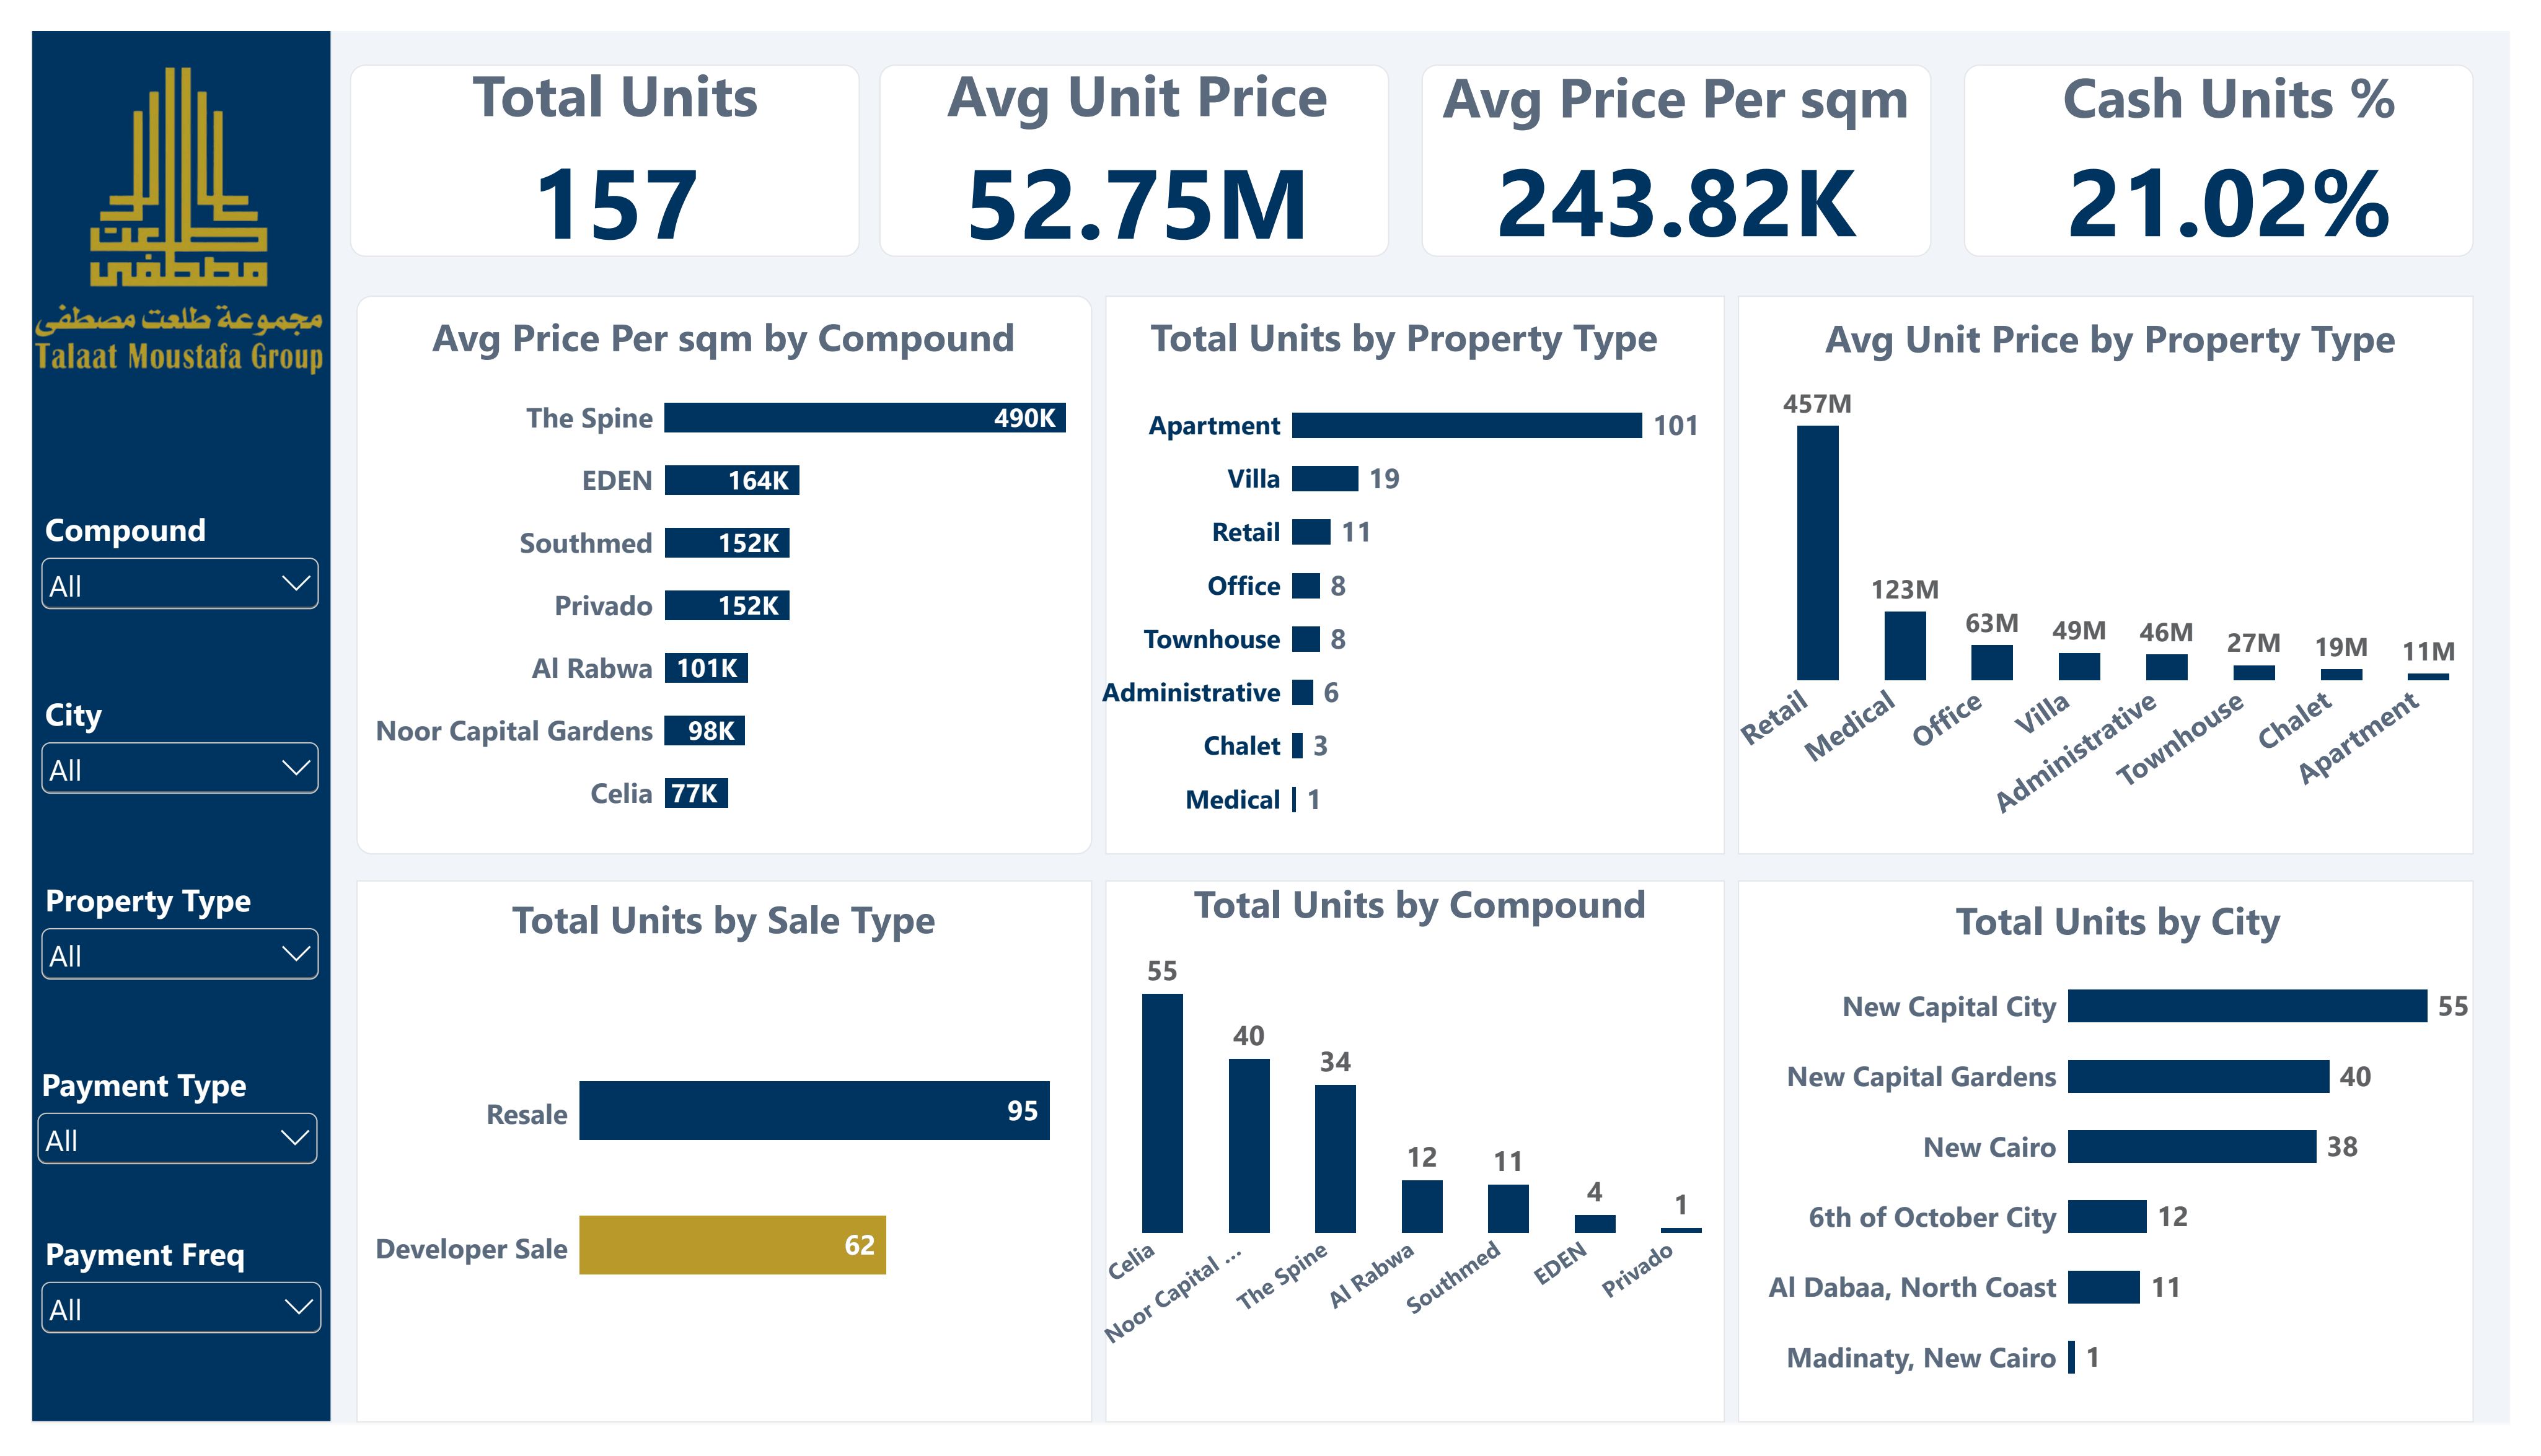

The dashboard page shown, as its layout file describes it:
{"tool":"powerbi","page":{"name":"Page 1","canvas":[1920,1080],"ordinal":0},"visuals":[{"type":"image","box":[3.3,6.6,222.7,280.4],"z":0},{"type":"cardVisual","fields":{"Data":["Measure.Total Units"]},"box":[290.5,14.5,323.2,170.7],"z":1000},{"type":"cardVisual","fields":{"Data":["Measure.Avg Unit Price"]},"box":[684.5,14.5,345,170.7],"z":2000},{"type":"cardVisual","fields":{"Data":["Measure.Avg Price Per sqm"]},"box":[1060.4,14.5,428.5,170.7],"z":3000},{"type":"clusteredBarChart","title":"Avg Price Per sqm by Compound","fields":{"Category":["Talaat_Mostafa_Real_State.Compound"],"Y":["Measure.Avg Price Per sqm"]},"box":[248.8,201.5,575.6,437.6],"z":5000},{"type":"clusteredBarChart","title":"Total Units by Property Type","fields":{"Category":["Talaat_Mostafa_Real_State.Property Type"],"Y":["Measure.Total Units"]},"box":[812.2,201.5,503,437.6],"z":6000},{"type":"clusteredColumnChart","title":"Avg Unit Price by Property Type","fields":{"Category":["Talaat_Mostafa_Real_State.Property Type"],"Y":["Measure.Avg Unit Price"]},"box":[1303,202.9,615.2,438.7],"z":7000},{"type":"slicer","fields":{"Values":["Talaat_Mostafa_Real_State.Compound"]},"box":[3,368.8,225.2,105.3],"z":8000},{"type":"slicer","fields":{"Values":["Talaat_Mostafa_Real_State.City"]},"box":[3,512.2,225.2,105.3],"z":9000},{"type":"slicer","fields":{"Values":["Talaat_Mostafa_Real_State.Property Type"]},"box":[3,655.6,225.2,105.3],"z":10000},{"type":"clusteredBarChart","title":"Total Units by Sale Type","fields":{"Category":["Talaat_Mostafa_Real_State.Sale_Type"],"Y":["Measure.Total Units"]},"box":[248.8,653.3,575.6,426.7],"z":12000},{"type":"clusteredBarChart","fields":{"Category":["Talaat_Mostafa_Real_State.City"],"Y":["Measure.Total Units"]},"box":[1327.7,654.5,577.3,425.5],"z":13000},{"type":"clusteredColumnChart","fields":{"Category":["Talaat_Mostafa_Real_State.Compound"],"Y":["Measure.Total Units"]},"box":[813,641.3,526.1,438.7],"z":14000},{"type":"cardVisual","fields":{"Data":["Measure.Cash Units %"]},"box":[1488.9,14.5,428.5,170.7],"z":14001},{"type":"slicer","fields":{"Values":["Talaat_Mostafa_Real_State.Payment_Type"]},"box":[0,799.1,226.7,92.4],"z":14002},{"type":"slicer","fields":{"Values":["Talaat_Mostafa_Real_State.Payment_Frequency"]},"box":[3.5,929.7,226.7,92.4],"z":14003}]}

Visuals, with their boxes on the page's 1920x1080 design canvas (x1, y1, x2, y2). These are canvas units, not pixel positions in the 2541x1456 screenshot, which may show the page scaled, cropped or inside an application window:
image: Rect(3, 7, 226, 287)
cardVisual - Measure.Total Units: Rect(290, 14, 614, 185)
cardVisual - Measure.Avg Unit Price: Rect(684, 14, 1030, 185)
cardVisual - Measure.Avg Price Per sqm: Rect(1060, 14, 1489, 185)
"Avg Price Per sqm by Compound" clusteredBarChart: Rect(249, 202, 824, 639)
"Total Units by Property Type" clusteredBarChart: Rect(812, 202, 1315, 639)
"Avg Unit Price by Property Type" clusteredColumnChart: Rect(1303, 203, 1918, 642)
slicer - Talaat_Mostafa_Real_State.Compound: Rect(3, 369, 228, 474)
slicer - Talaat_Mostafa_Real_State.City: Rect(3, 512, 228, 618)
slicer - Talaat_Mostafa_Real_State.Property Type: Rect(3, 656, 228, 761)
"Total Units by Sale Type" clusteredBarChart: Rect(249, 653, 824, 1080)
clusteredBarChart - Talaat_Mostafa_Real_State.City x Measure.Total Units: Rect(1328, 654, 1905, 1080)
clusteredColumnChart - Talaat_Mostafa_Real_State.Compound x Measure.Total Units: Rect(813, 641, 1339, 1080)
cardVisual - Measure.Cash Units %: Rect(1489, 14, 1917, 185)
slicer - Talaat_Mostafa_Real_State.Payment_Type: Rect(0, 799, 227, 892)
slicer - Talaat_Mostafa_Real_State.Payment_Frequency: Rect(4, 930, 230, 1022)
